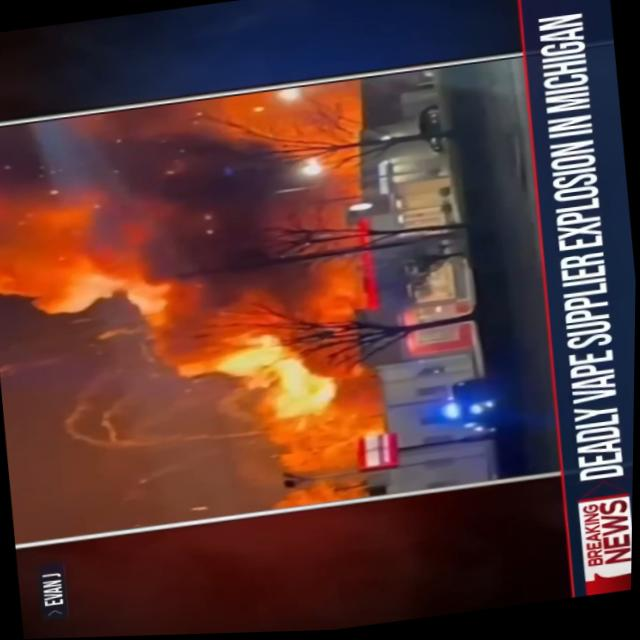Fire: (0, 77, 400, 546)
